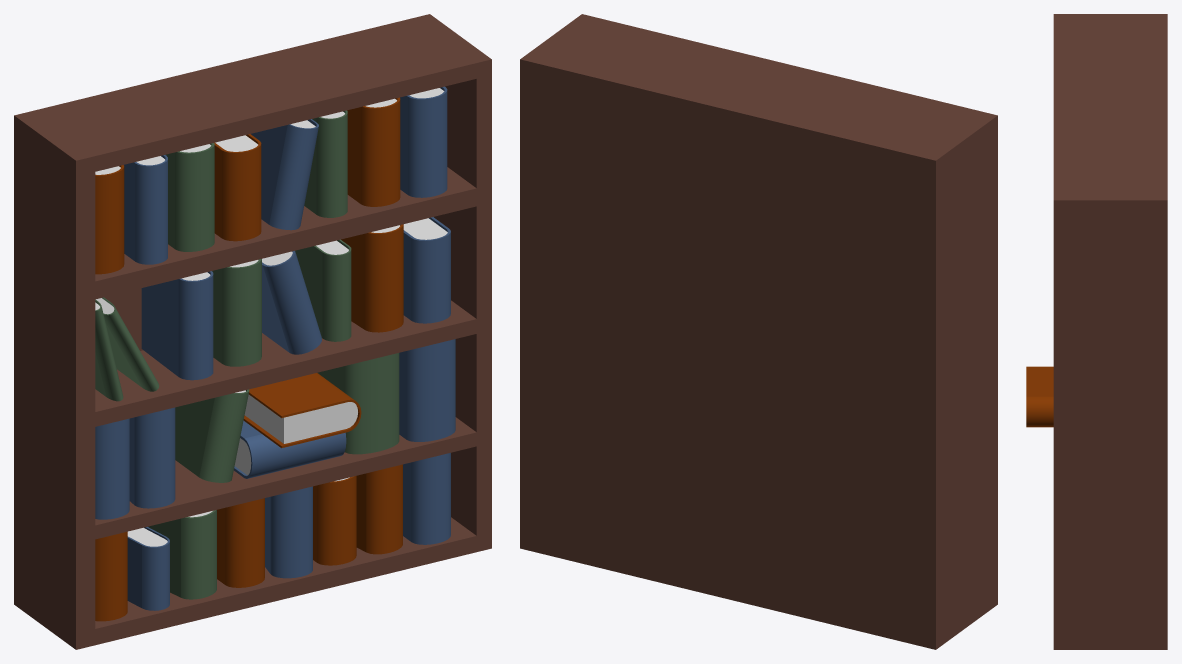
Rendered from bookcase.fbx.
The picture shows the model from 3 angles, left to right: view 1: azimuth 30°, elevation 25°; view 2: azimuth 150°, elevation 25°; view 3: azimuth 270°, elevation 25°; orthographic projection. The views are drawn at different scales.
Parts seen in each view (by area): view 1: pCube1, pCylinder19, pCylinder26, pCylinder11, pCylinder21, pCylinder14, pCylinder25, pCylinder9, pCylinder23, pCylinder12, pCylinder17, pCylinder8 (+21 smaller); view 2: pCube1; view 3: pCube1, pCylinder26.
Boxes of the visible parts, left/top/right/bottom form: pCube1: left=14, top=14, right=491, bottom=649; pCylinder19: left=141, top=271, right=213, bottom=380; pCylinder26: left=243, top=373, right=361, bottom=448; pCylinder11: left=347, top=97, right=400, bottom=206; pCylinder21: left=399, top=339, right=455, bottom=441; pCylinder14: left=341, top=224, right=403, bottom=332; pCylinder25: left=175, top=389, right=249, bottom=482; pCylinder9: left=251, top=119, right=318, bottom=230; pCylinder23: left=317, top=353, right=399, bottom=454; pCylinder12: left=400, top=86, right=447, bottom=197; pCylinder17: left=212, top=259, right=261, bottom=366; pCylinder8: left=214, top=134, right=261, bottom=241; pCube1: left=520, top=14, right=997, bottom=649; pCube1: left=1053, top=14, right=1167, bottom=649; pCylinder26: left=1026, top=366, right=1053, bottom=427.
Size of the model in its own units: 1.78 by 2 by 0.5694.
